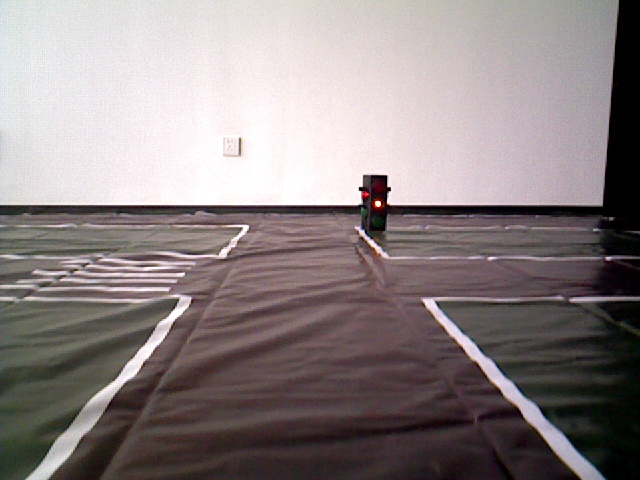yellow: (360, 174, 392, 236)
